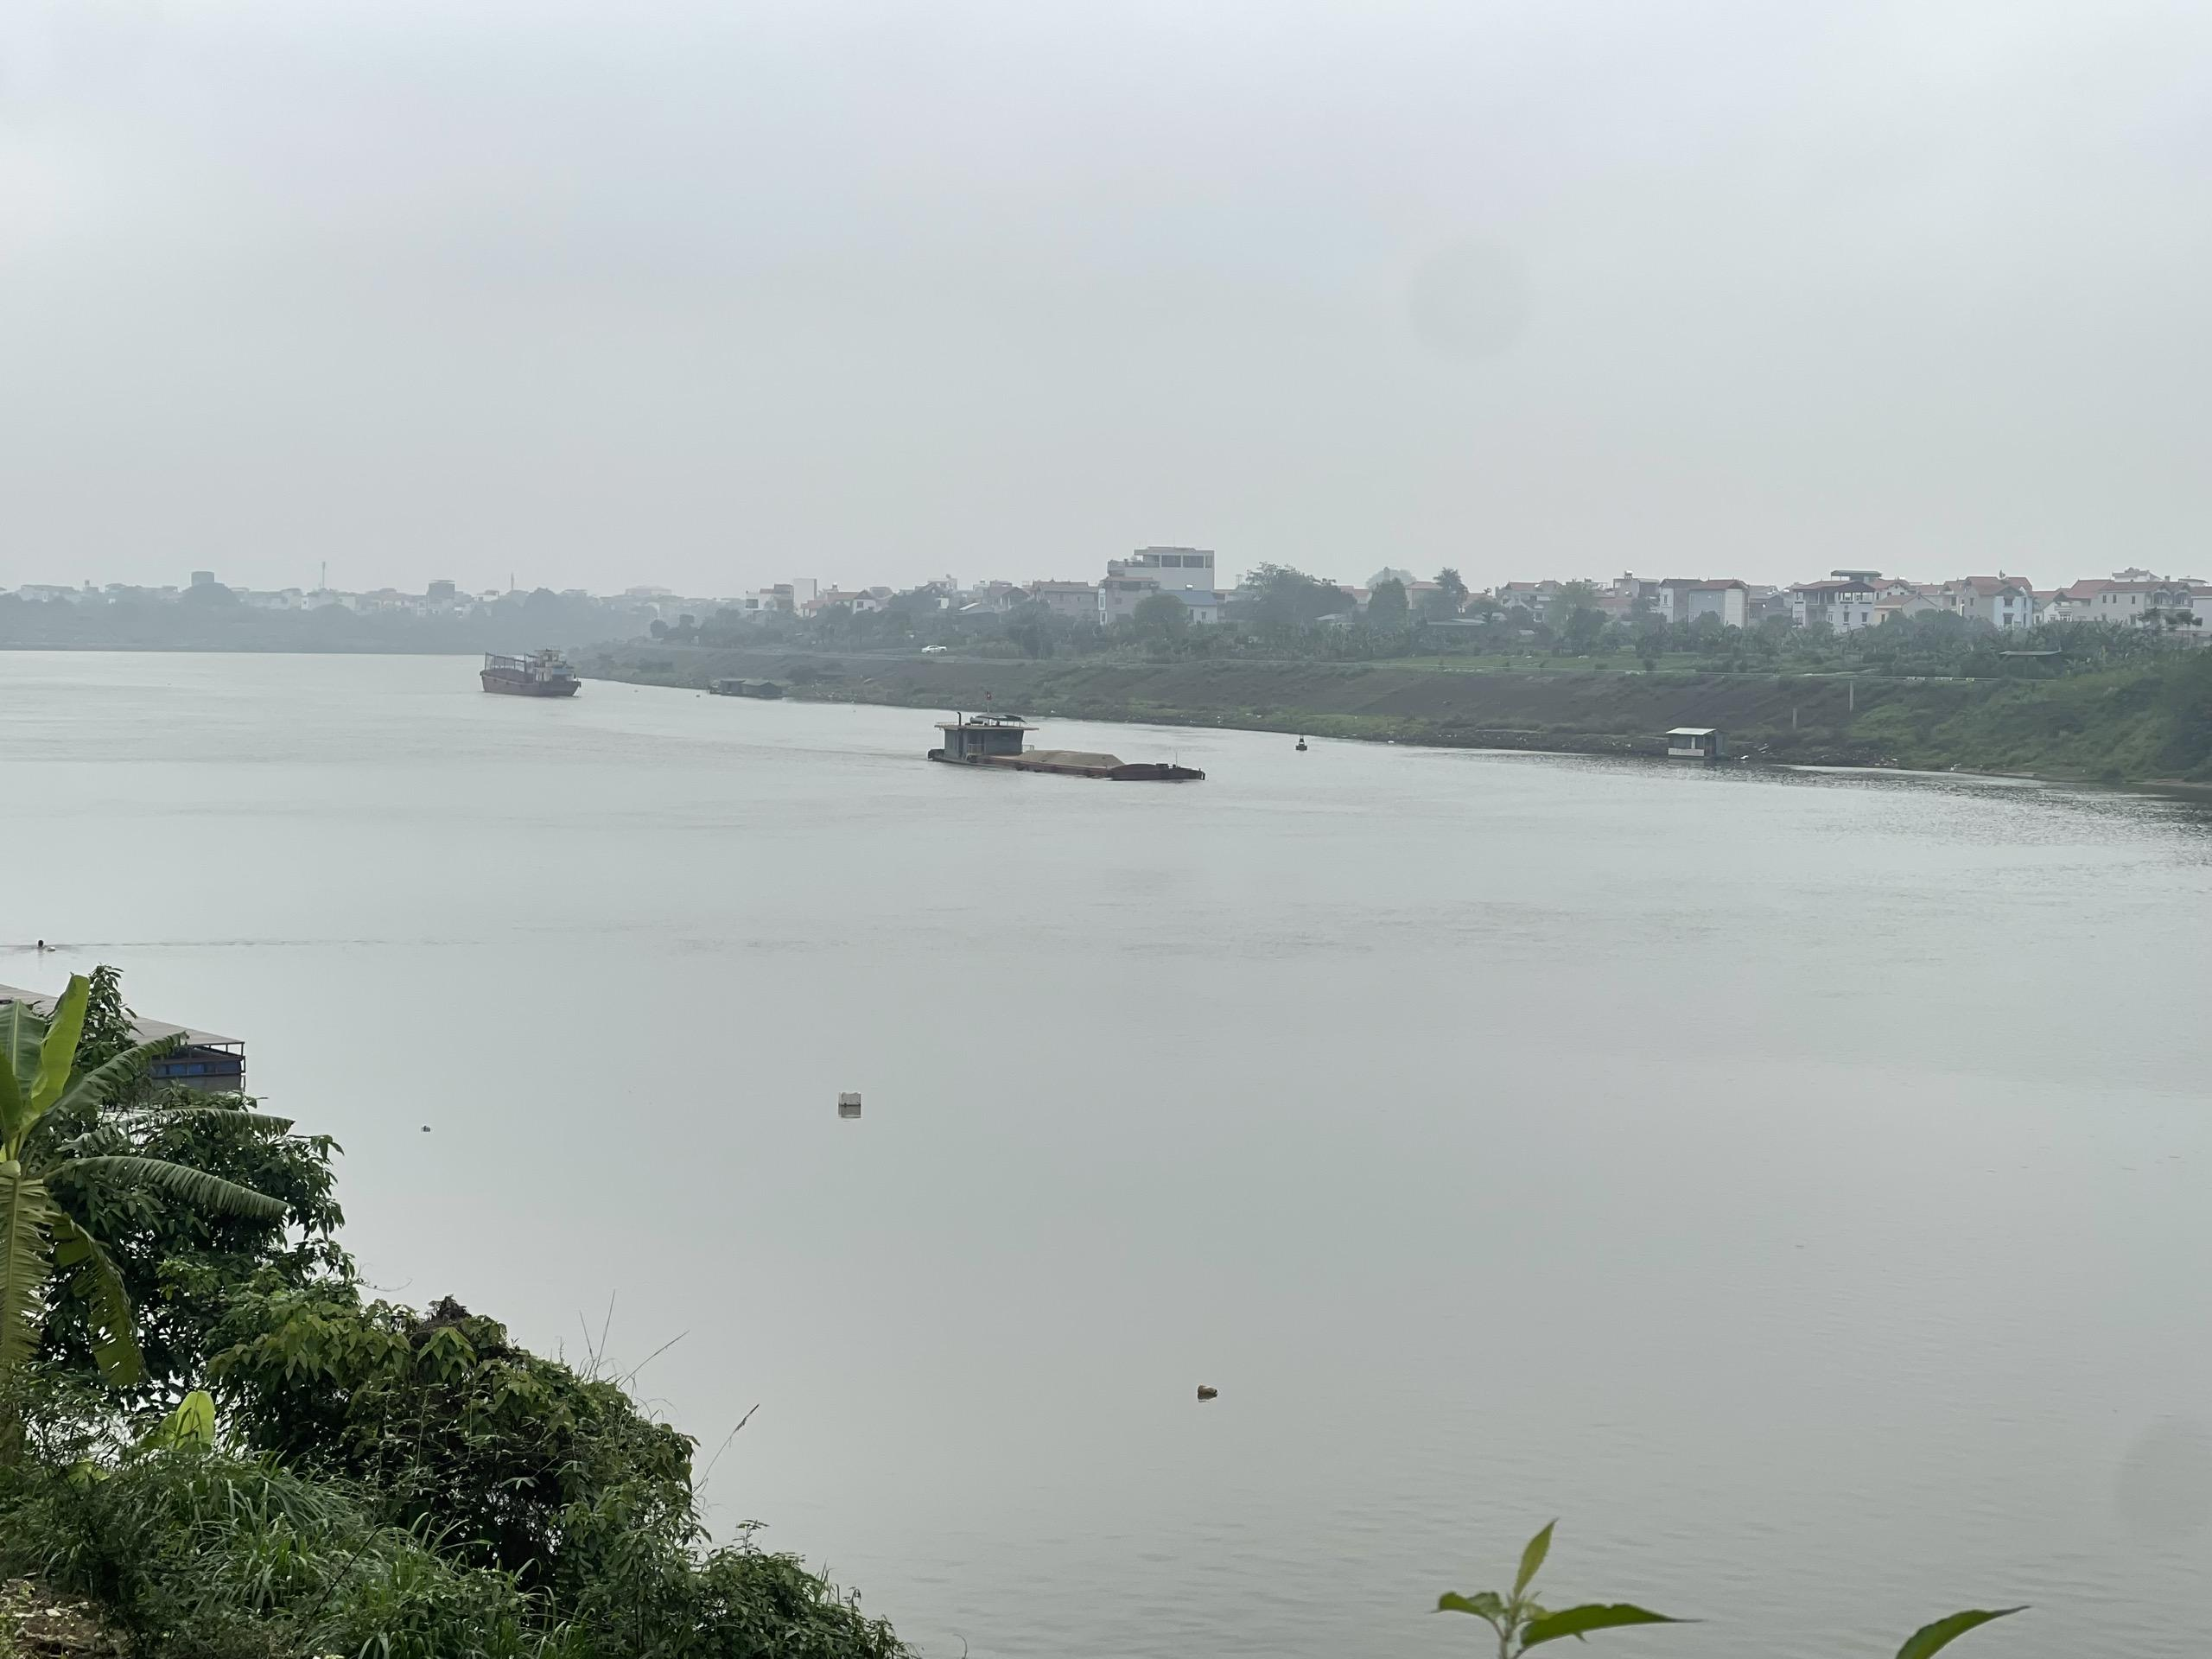Ship: (927, 702, 1221, 788), (465, 643, 587, 709)
